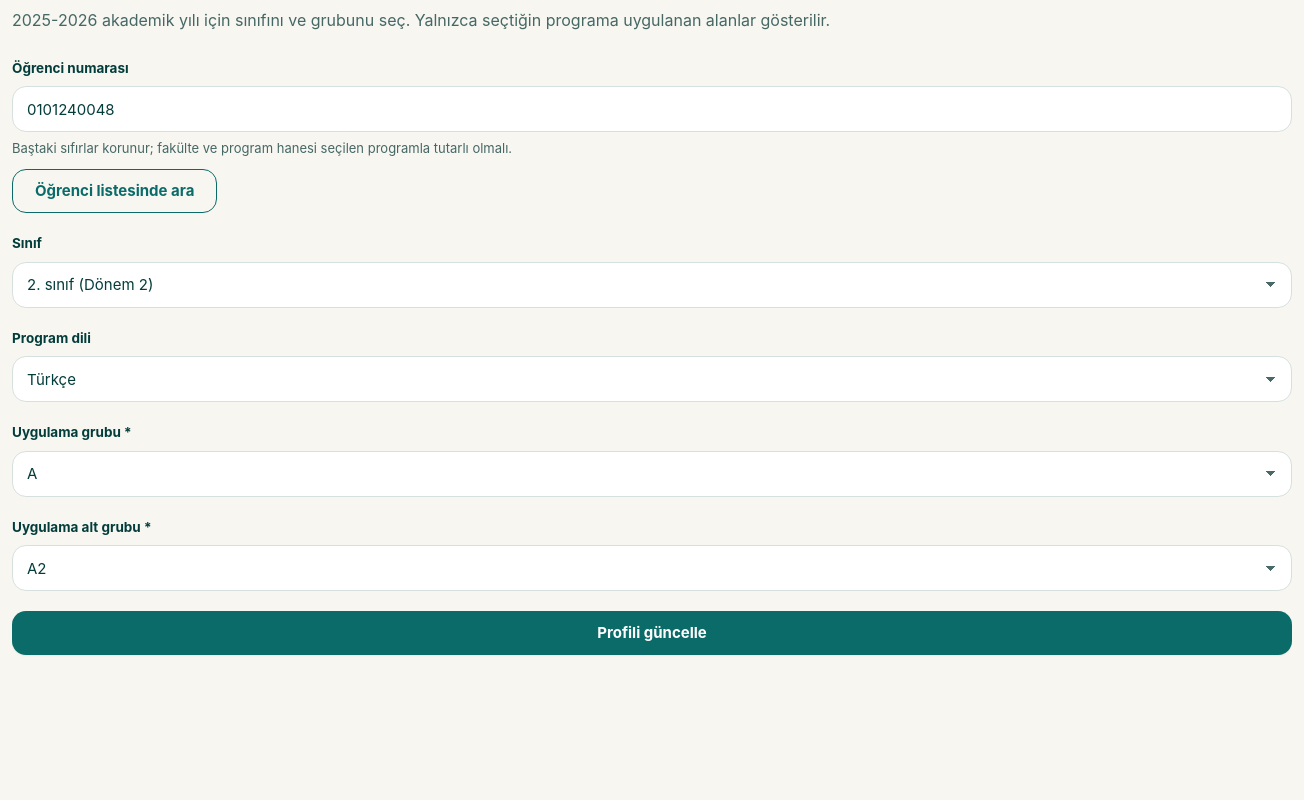
Scenario: AcademicProfileForm › reports the backend validation problem instead of deciding validity itself
What coordinates should you click on to do the following:
click the button "Profili güncelle"
I would click on:
 (652, 633)
Its box is left=12, top=611, right=1292, bottom=655.
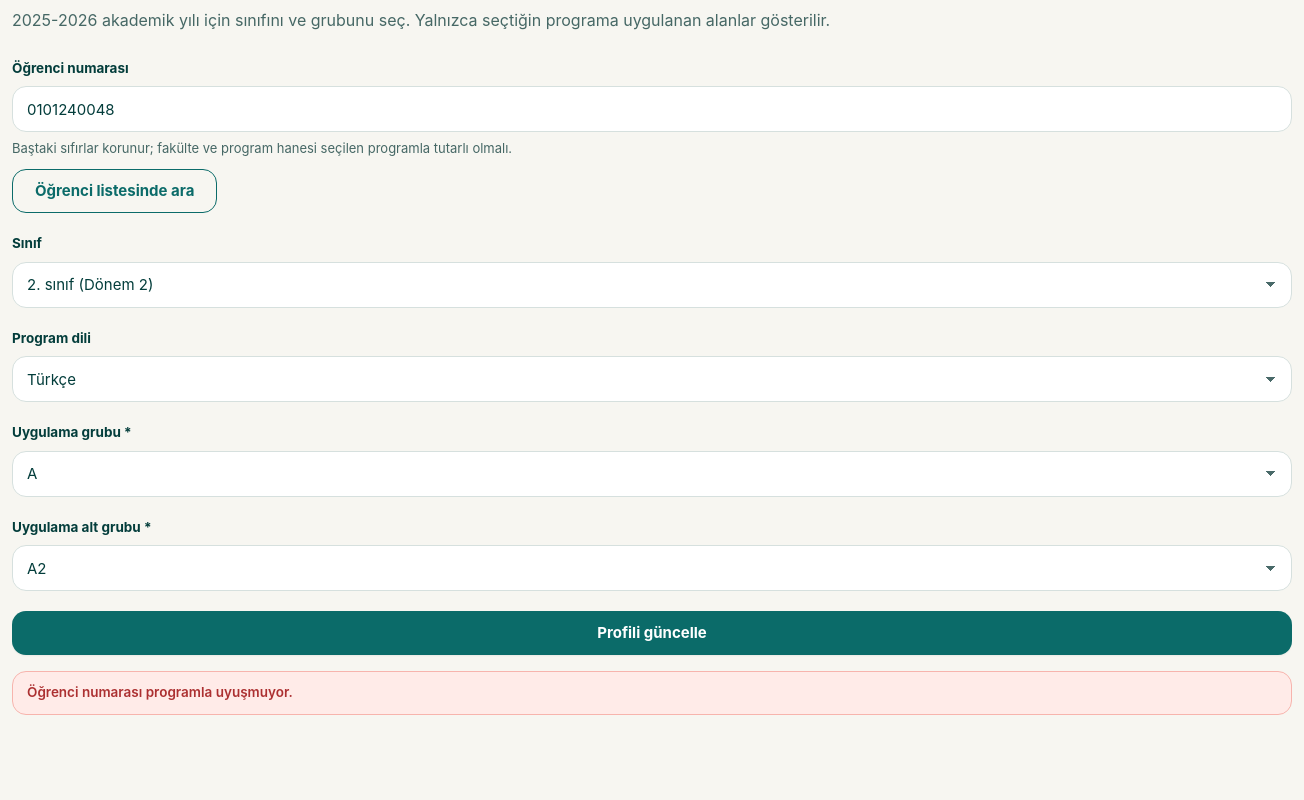
Check: the message reads "Öğrenci numarası programla uyuşmuyor.", box left=27, top=684, right=293, bottom=700
